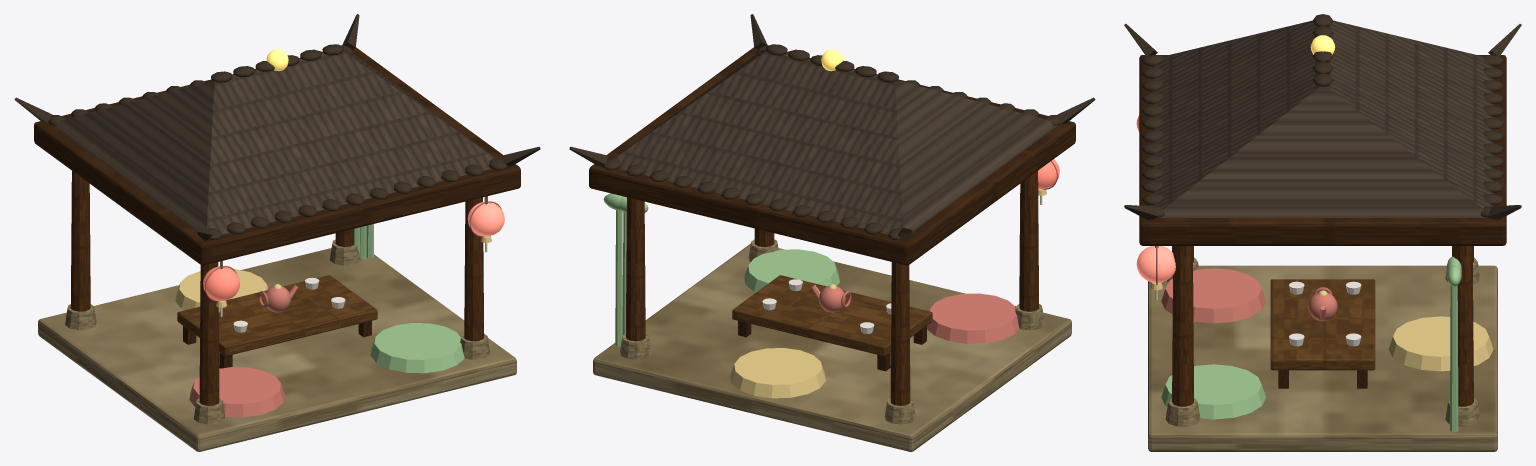
File: teaceremony.glb
3 renders of one model, left to right at view 1: azimuth 30°, elevation 25°; view 2: azimuth 150°, elevation 25°; view 3: azimuth 270°, elevation 25°, orthographic. The views are drawn at different scales.
Visible parts, largest first — view 1: roof, base, roof_eave, table, cushion.001, cushion, column, column.002, column.003, cushion.002, lantern_R_body, lantern_L_body (+5 smaller); view 2: roof, base, roof_eave, table, cushion.002, cushion, column, cushion.001, column.001, column.002, bamboo2, column_base (+3 smaller); view 3: roof, base, roof_eave, table, cushion, cushion.001, cushion.002, column.003, column.001, bamboo2, lantern_R_body, column_base.003 (+2 smaller).
Boxes of the visible parts, x1,y1,x2,y2 form: roof: (52,49,495,234); base: (38,248,516,451); roof_eave: (34,47,520,265); table: (177,275,377,356); cushion.001: (370,323,464,373); cushion: (189,367,284,417); column: (70,171,90,311); column.002: (199,262,219,405); column.003: (464,197,484,341); cushion.002: (175,269,268,310); lantern_R_body: (467,202,504,236); lantern_L_body: (203,266,239,300); roof: (614,49,1057,234); base: (593,243,1071,451); roof_eave: (589,47,1075,265); table: (732,275,932,356); cushion.002: (730,348,825,398); cushion: (927,293,1019,343); column: (890,262,910,405); cushion.001: (744,249,839,292); column.001: (625,197,645,341); column.002: (1019,171,1039,311); bamboo2: (615,210,622,346); column_base: (884,398,915,424); roof: (1152,20,1493,217); base: (1148,265,1497,451); roof_eave: (1139,55,1506,245); table: (1270,279,1375,370); cushion: (1161,268,1265,323); cushion.001: (1161,364,1265,419); cushion.002: (1388,316,1493,371); column.003: (1172,246,1193,406); column.001: (1453,246,1473,406); bamboo2: (1450,285,1458,431); lantern_R_body: (1136,246,1175,282); column_base.003: (1165,398,1200,426).
Size of the model in its own units: 4.95 by 4.19 by 4.55.
21 materials, 6 textured.
